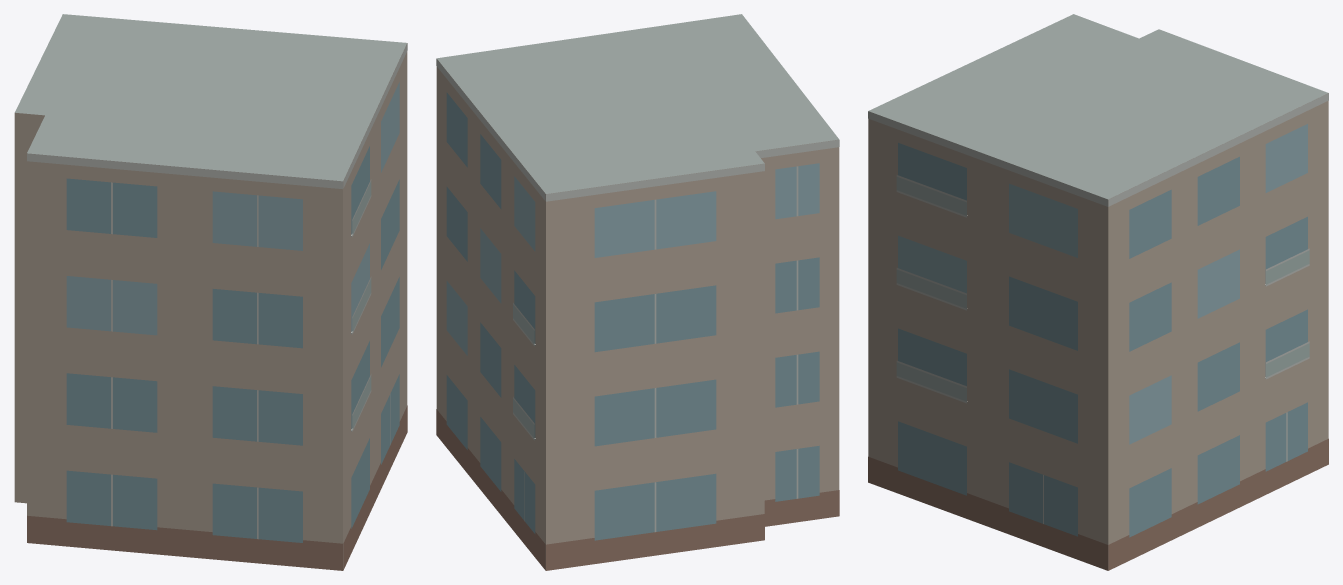
The model's file is survey-upis-32963406.glb.
3 renders of one model, left to right at view 1: azimuth 30°, elevation 25°; view 2: azimuth 150°, elevation 25°; view 3: azimuth 270°, elevation 25°, orthographic. The views are drawn at different scales.
Visible parts, largest first — view 1: survey-upis-32963406.tmp; view 2: survey-upis-32963406.tmp; view 3: survey-upis-32963406.tmp.
Boxes of the visible parts, x1,y1,x2,y2 form: survey-upis-32963406.tmp: [14, 14, 407, 570]; survey-upis-32963406.tmp: [436, 14, 839, 570]; survey-upis-32963406.tmp: [868, 14, 1328, 570].
Bounding box in the file's own units: 12.91 × 12.05 × 13.55.
